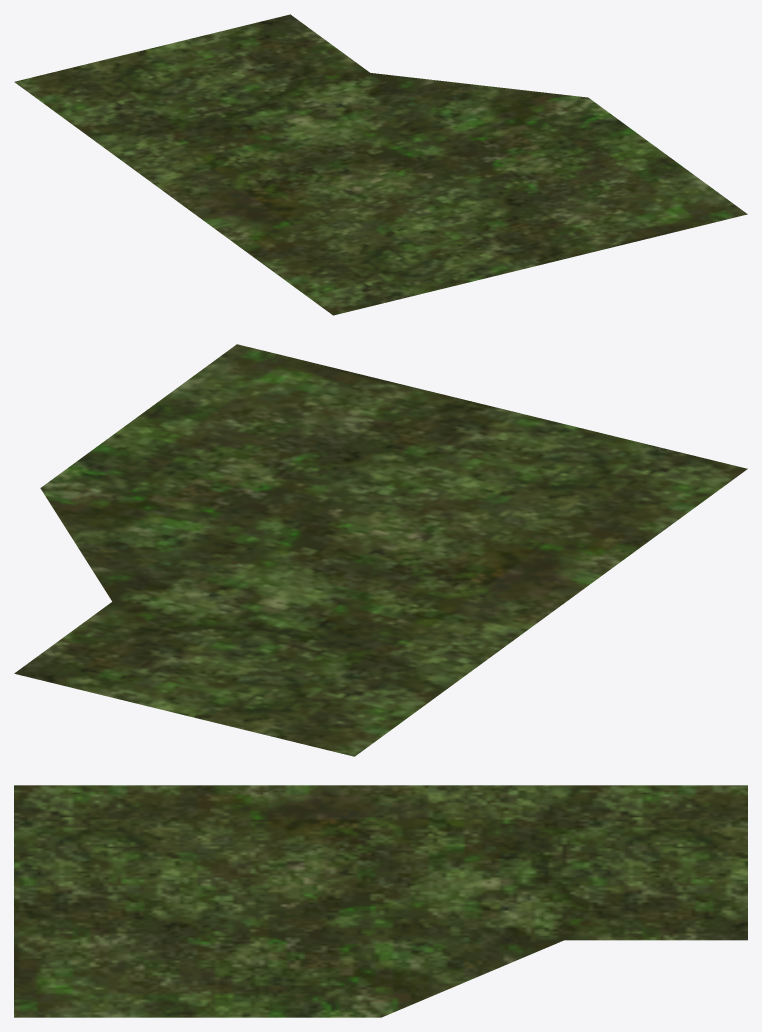
Rendered from OVERHILL_A_01_LINE172.fbx.
The picture shows the model from 3 angles, top to bottom: view 1: azimuth 30°, elevation 25°; view 2: azimuth 150°, elevation 25°; view 3: azimuth 270°, elevation 25°; orthographic projection. The views are drawn at different scales.
Parts seen in each view (by area): view 1: OVERHILL_A_01_LINE172; view 2: OVERHILL_A_01_LINE172; view 3: OVERHILL_A_01_LINE172.
Boxes of the visible parts, x1=… form: OVERHILL_A_01_LINE172: x1=14, y1=14, x2=747, y2=315; OVERHILL_A_01_LINE172: x1=14, y1=344, x2=747, y2=756; OVERHILL_A_01_LINE172: x1=14, y1=785, x2=747, y2=1017.
Size of the model in its own units: 30000 by 0.00652 by 40000.
Materials: 1 (1 with a texture image).
